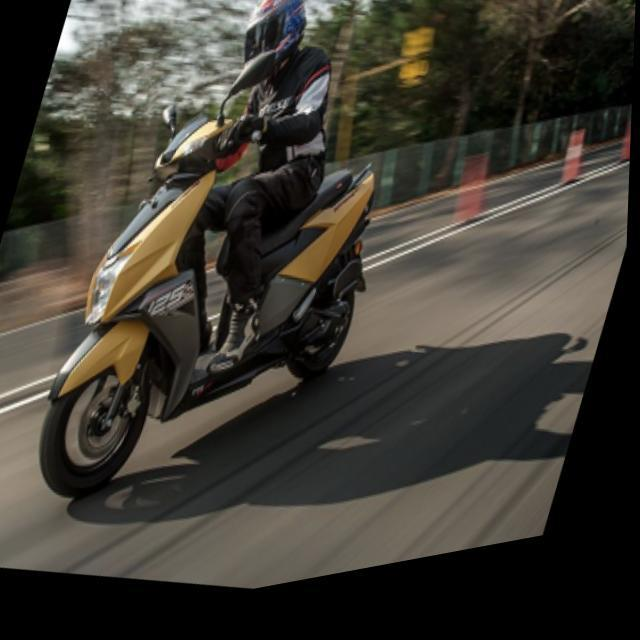Helmet: (223, 0, 323, 73)
